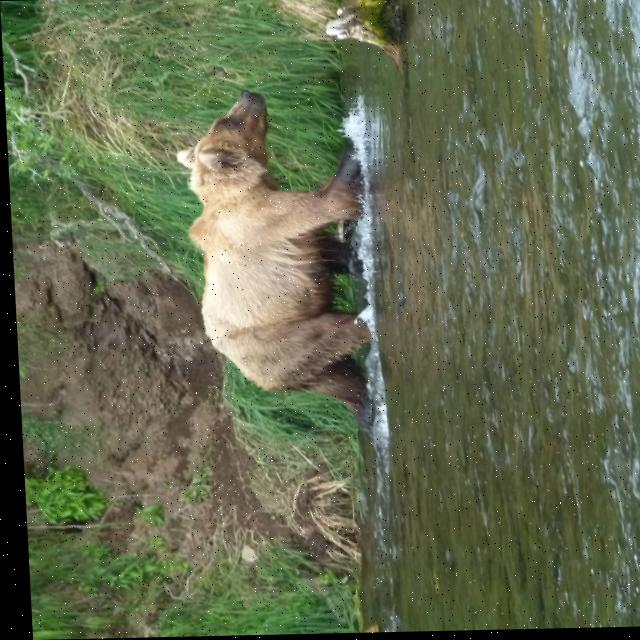bear face: (170, 89, 367, 410)
